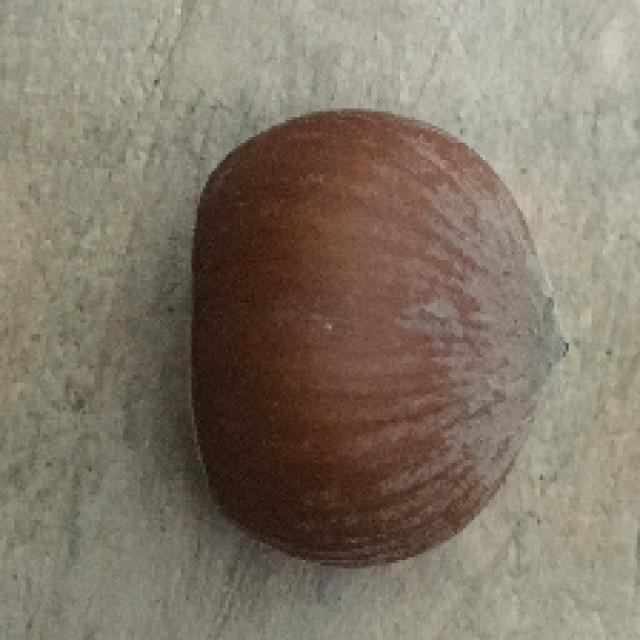QualityHazelnut: (189, 110, 576, 563)
